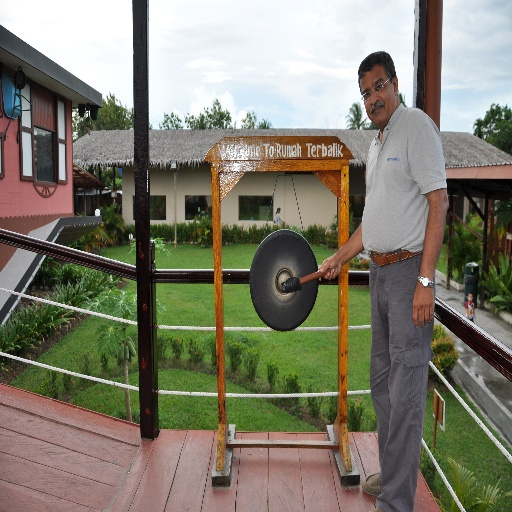hand: (412, 281, 434, 327), (317, 261, 342, 287), (465, 311, 470, 318), (472, 313, 477, 320)
